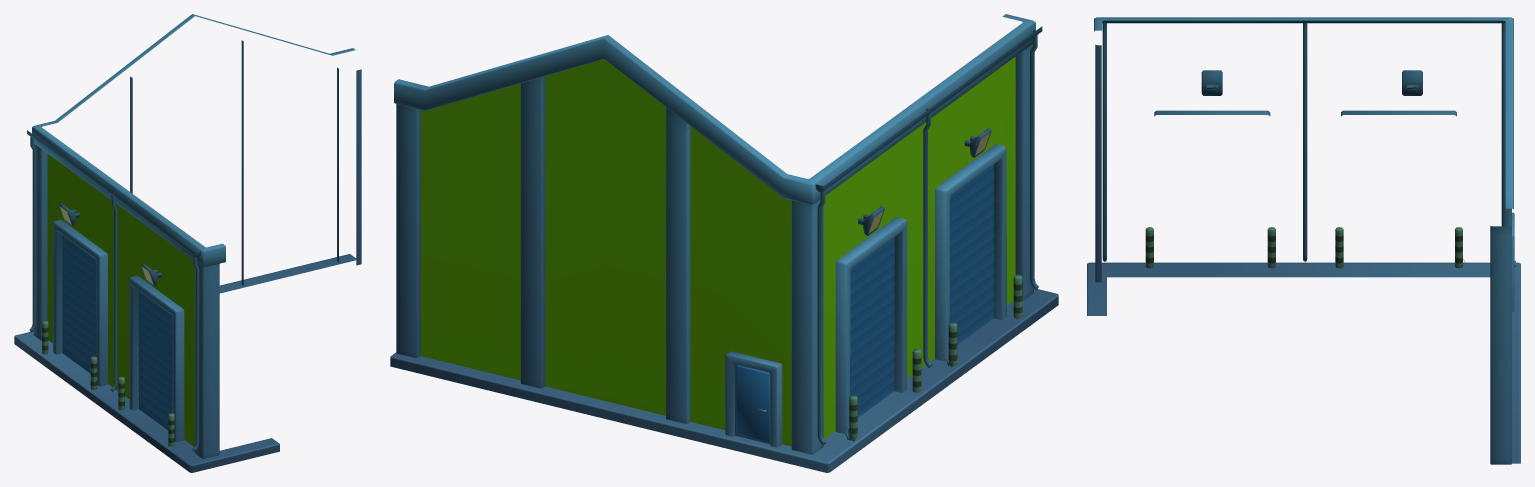
Rendered from Warehouse01Night.glb.
3 renders of one model, left to right at view 1: azimuth 30°, elevation 25°; view 2: azimuth 150°, elevation 25°; view 3: azimuth 270°, elevation 25°, orthographic. The views are drawn at different scales.
Parts seen in each view (by area): view 1: Warehouse01Night; view 2: Warehouse01Night; view 3: Warehouse01Night.
Part boxes in pixels (x1,y1,x2,y2): Warehouse01Night: [14, 14, 361, 472]; Warehouse01Night: [390, 14, 1058, 472]; Warehouse01Night: [1087, 17, 1520, 464].
Bounding box in the file's own units: 19.87 × 16.3 × 18.12.
2 materials, 1 textured.
